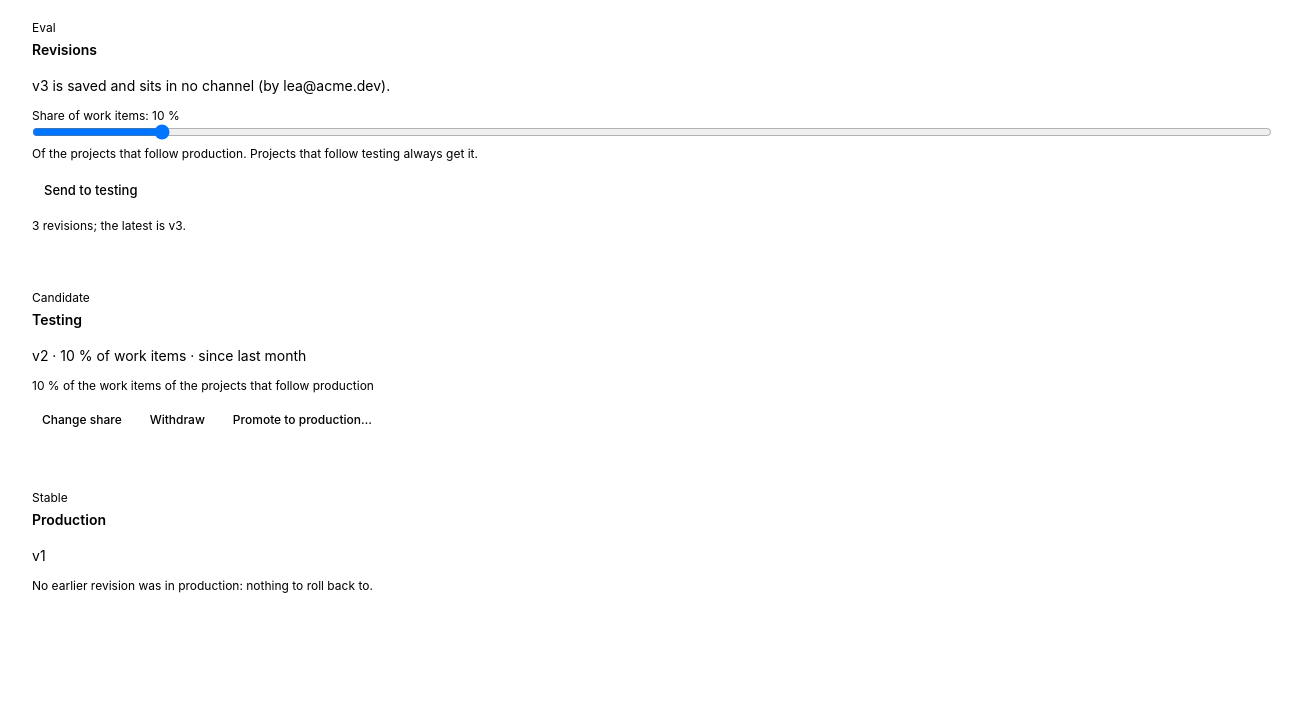
Test: the pipeline › sends the saved revision to testing with the chosen share
Set the slider labelled "Share of work items: 10 %" to "30" at {"x": 407, "y": 132}, box x1=32 y1=124 x2=1272 y2=140
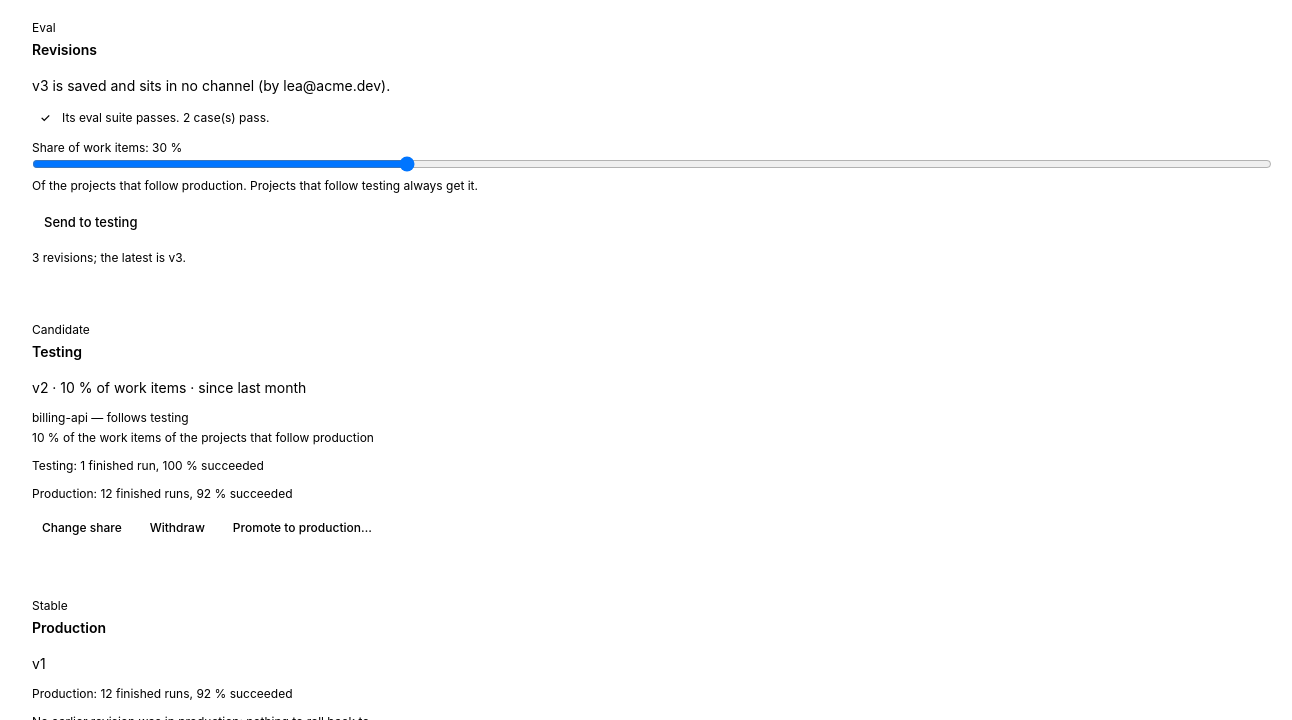
Click the button "Send to testing".
click(91, 222)  # box x1=32 y1=206 x2=150 y2=238
(page scrolled)
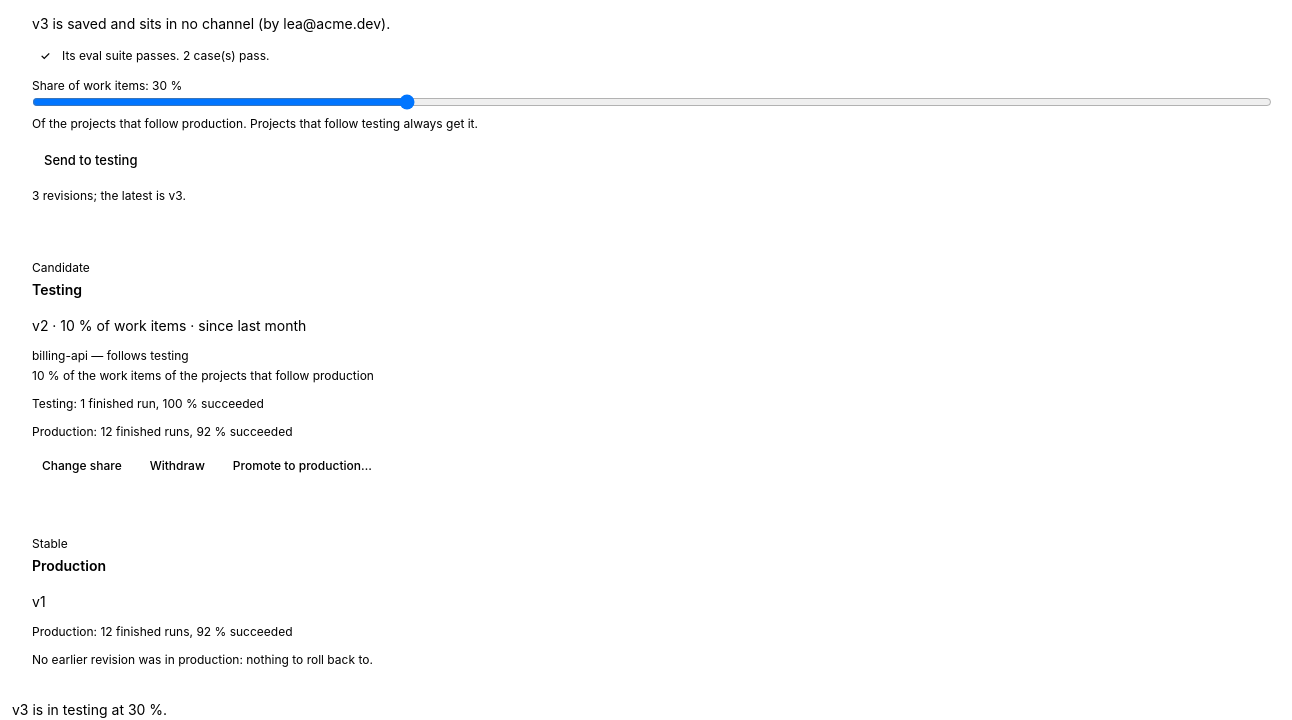
Now the text "v3 is in testing at 30 %." is shown, box x1=12 y1=701 x2=167 y2=718
